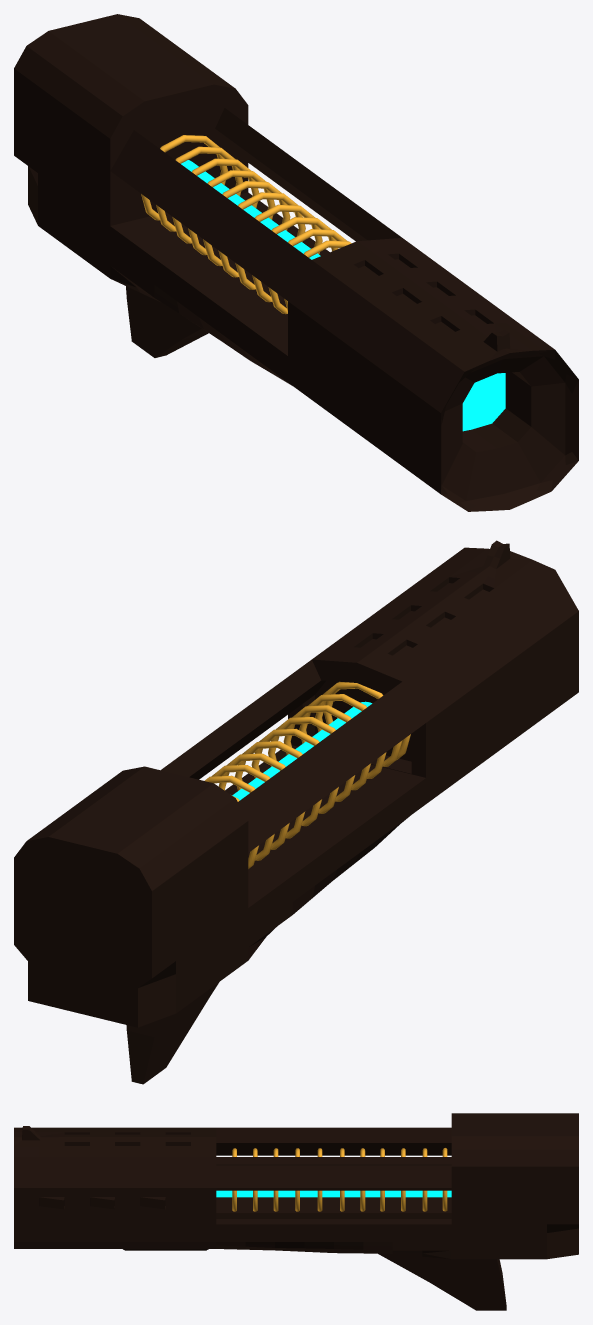
File: Wepprototypelowerres.fbx
3 views of the same model, one above another, from view 1: azimuth 30°, elevation 25°; view 2: azimuth 150°, elevation 25°; view 3: azimuth 270°, elevation 25° (orthographic). The views are drawn at different scales.
Visible parts, largest first — view 1: Cube, BezierCircle, Cylinder; view 2: Cube, BezierCircle, Cylinder; view 3: Cube, BezierCircle, Cylinder.
Part boxes in pixels (<box>): Cube: <box>14,14,578,511</box>; BezierCircle: <box>141,135,351,314</box>; Cylinder: <box>181,160,320,259</box>; Cube: <box>14,540,578,1084</box>; BezierCircle: <box>204,681,410,868</box>; Cylinder: <box>232,701,372,800</box>; Cube: <box>14,1113,578,1310</box>; BezierCircle: <box>232,1148,447,1211</box>; Cylinder: <box>216,1190,451,1197</box>.
Size of the model in its own units: 96.38 by 172 by 480.
